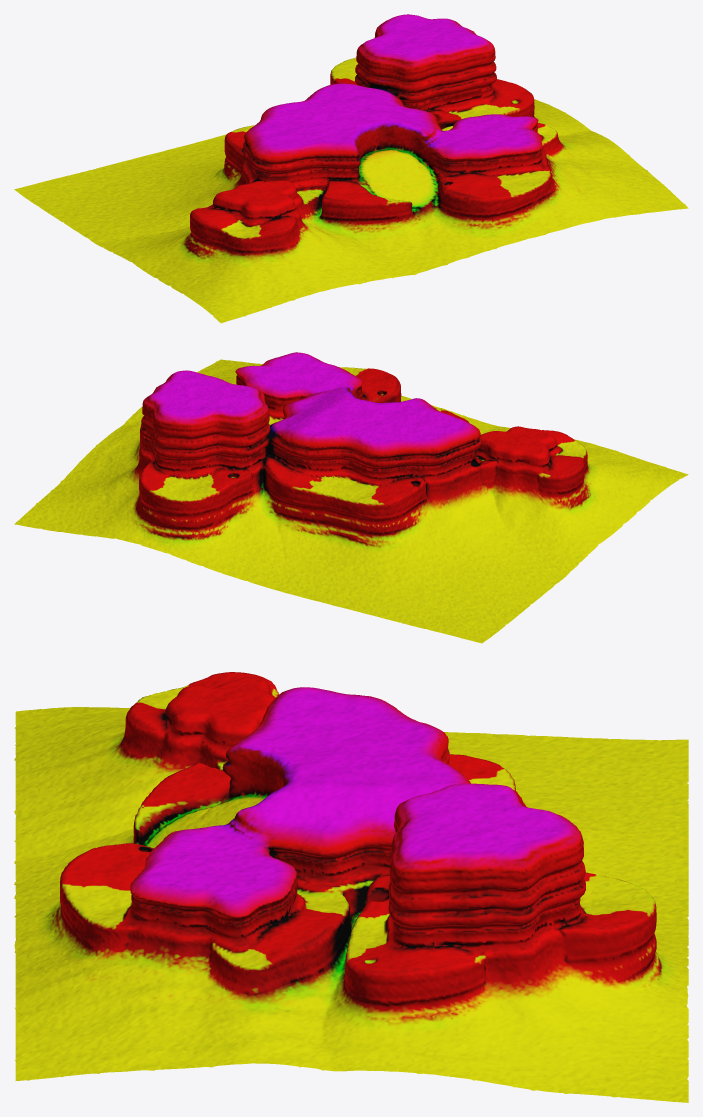
Rendered from island-terrain.glb.
3 renders of one model, top to bottom at view 1: azimuth 30°, elevation 25°; view 2: azimuth 150°, elevation 25°; view 3: azimuth 270°, elevation 25°, orthographic. The views are drawn at different scales.
Visible parts, largest first — view 1: island-terrain; view 2: island-terrain; view 3: island-terrain.
Boxes of the visible parts, bbox=[...] form: island-terrain: bbox=[14, 14, 688, 323]; island-terrain: bbox=[14, 352, 688, 643]; island-terrain: bbox=[14, 672, 688, 1102].
Size of the model in its own units: 59.89 by 14.27 by 45.9.
